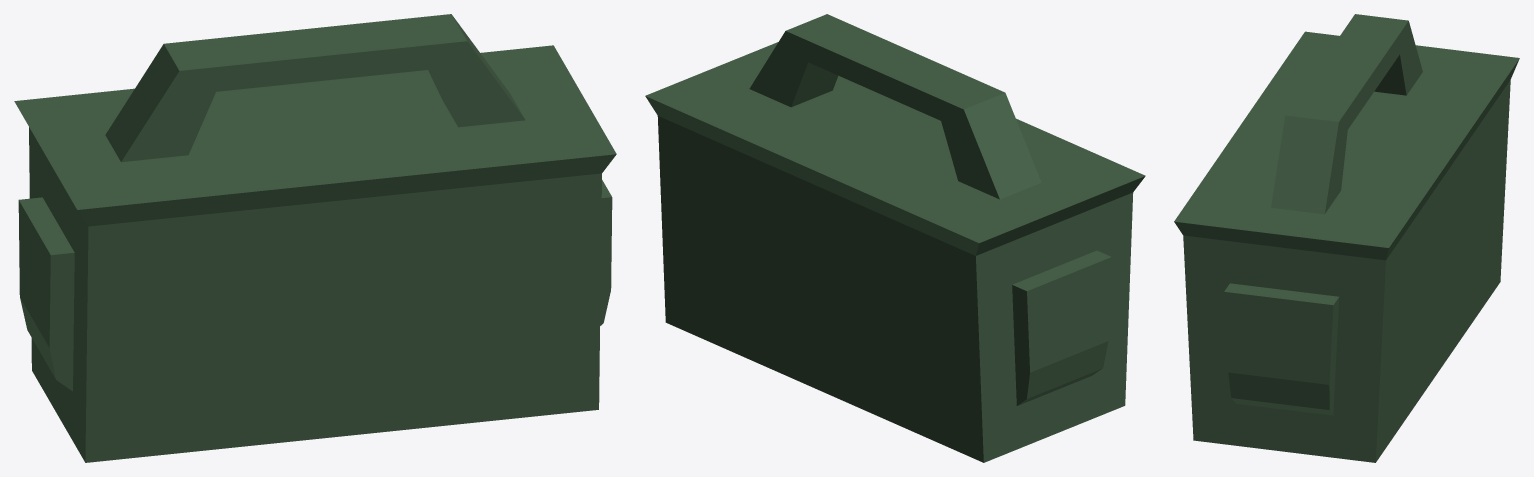
Rendered from AMMO CRATE.fbx.
The picture shows the model from 3 angles, left to right: view 1: azimuth 30°, elevation 25°; view 2: azimuth 150°, elevation 25°; view 3: azimuth 270°, elevation 25°; orthographic projection. The views are drawn at different scales.
Parts seen in each view (by area): view 1: Cube; view 2: Cube; view 3: Cube.
Part boxes in pixels (bbox=[...]): Cube: bbox=[14, 14, 616, 462]; Cube: bbox=[645, 14, 1145, 462]; Cube: bbox=[1174, 14, 1519, 462].
Bounding box in the file's own units: 218 × 138 × 147.
